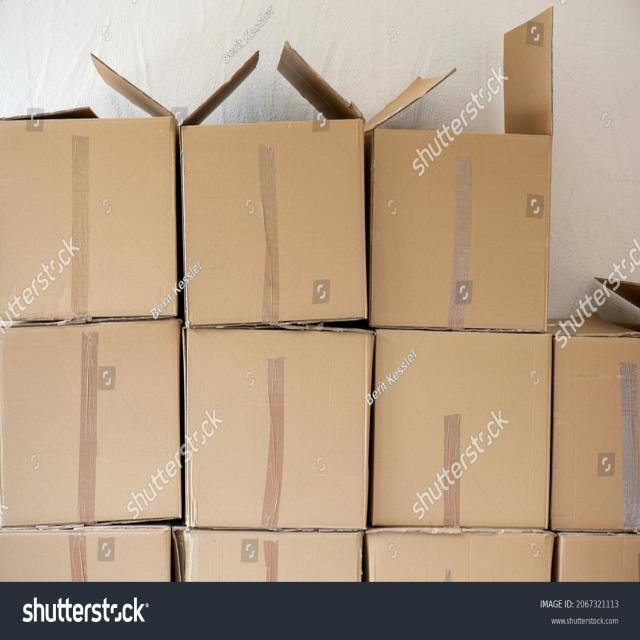BoxFace: (184, 326, 372, 532), (182, 122, 370, 326), (0, 321, 182, 524), (371, 328, 551, 530), (0, 117, 179, 317), (370, 133, 548, 334), (553, 336, 640, 529), (0, 524, 171, 584), (367, 529, 555, 582), (181, 532, 365, 584)
